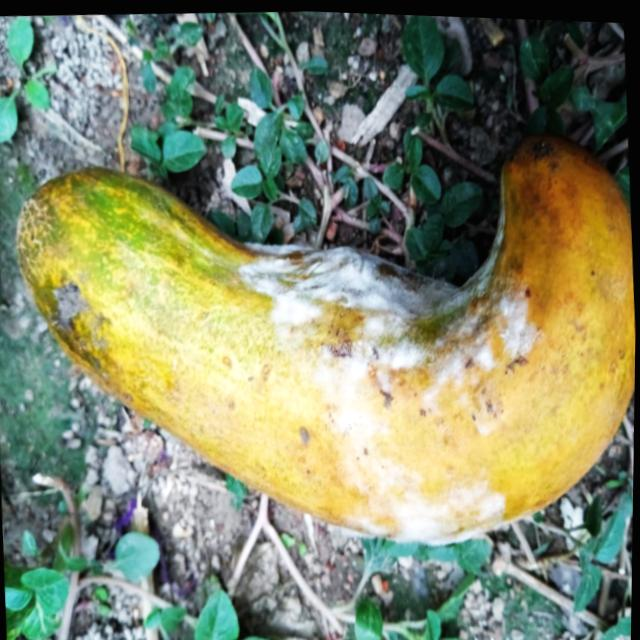Pythium-Fruit-Rot: (240, 224, 552, 560)
